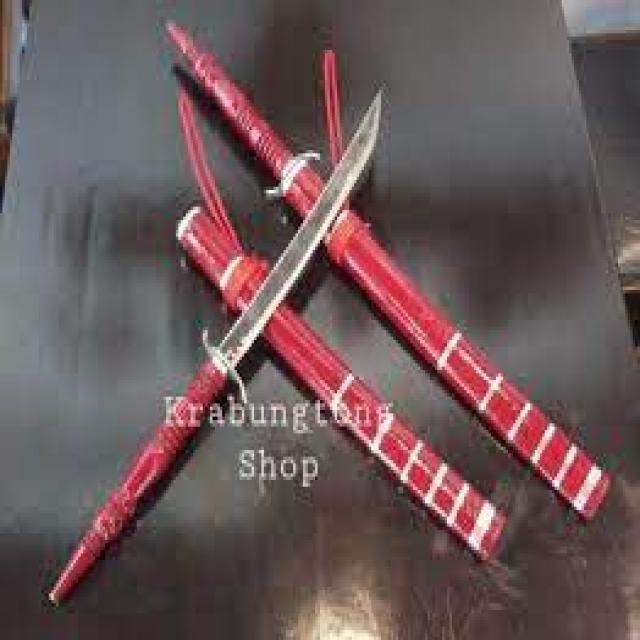long sword: (159, 14, 621, 524), (39, 86, 382, 605)
